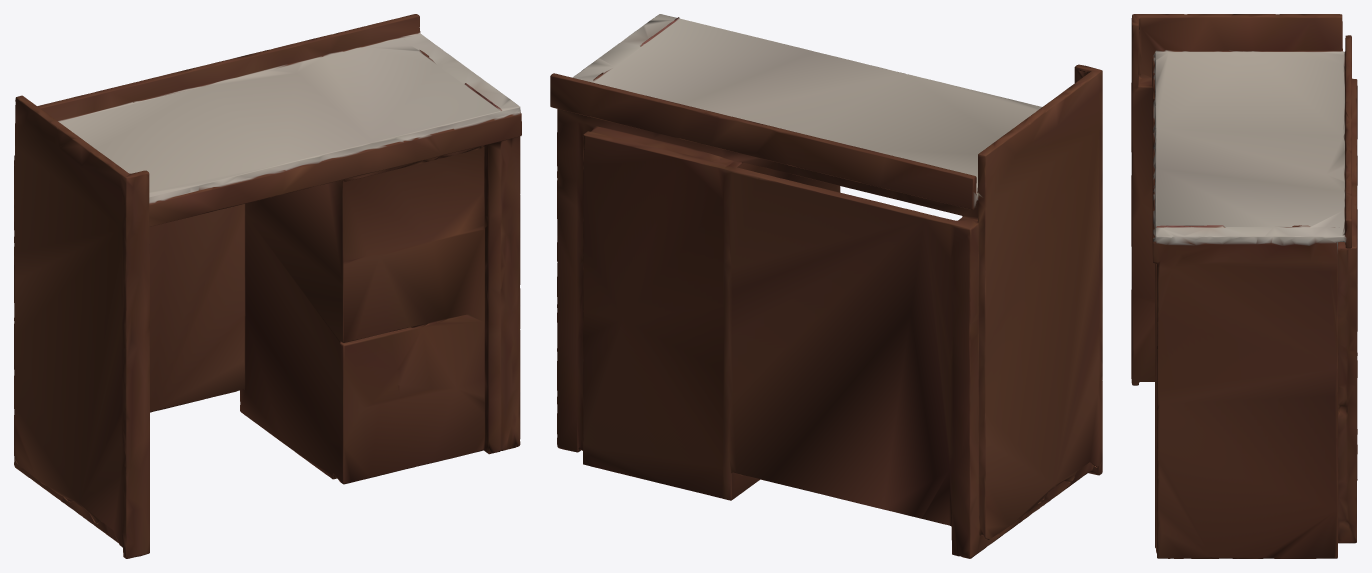
File: phone_desk.glb
The picture shows the model from 3 angles, left to right: view 1: azimuth 30°, elevation 25°; view 2: azimuth 150°, elevation 25°; view 3: azimuth 270°, elevation 25°; orthographic projection. The views are drawn at different scales.
Size of the model in its own units: 0.9965 by 0.8903 by 0.5046.
